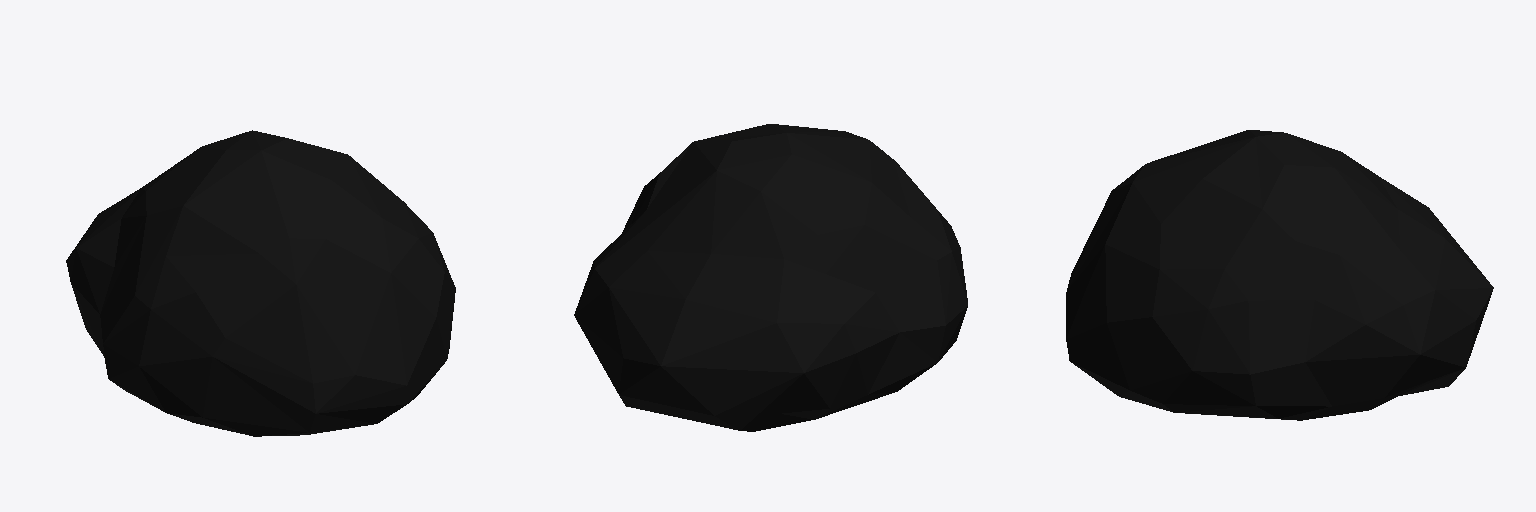
The model's file is Stone3.obj.
The picture shows the model from 3 angles: view 1: azimuth 30°, elevation 25°; view 2: azimuth 150°, elevation 25°; view 3: azimuth 270°, elevation 25°; orthographic projection.
Visible parts, largest first — view 1: Rock; view 2: Rock; view 3: Rock.
Part boxes in pixels (x1,y1,x2,y2): Rock: (66, 130, 455, 436); Rock: (574, 124, 967, 431); Rock: (1066, 130, 1493, 420).
Size of the model in its own units: 2.47 by 1.65 by 2.77.